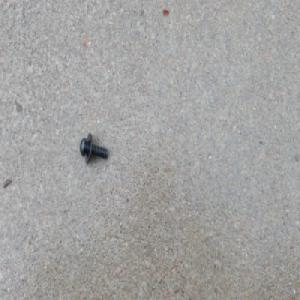BoltWasher: (79, 133, 108, 167)
